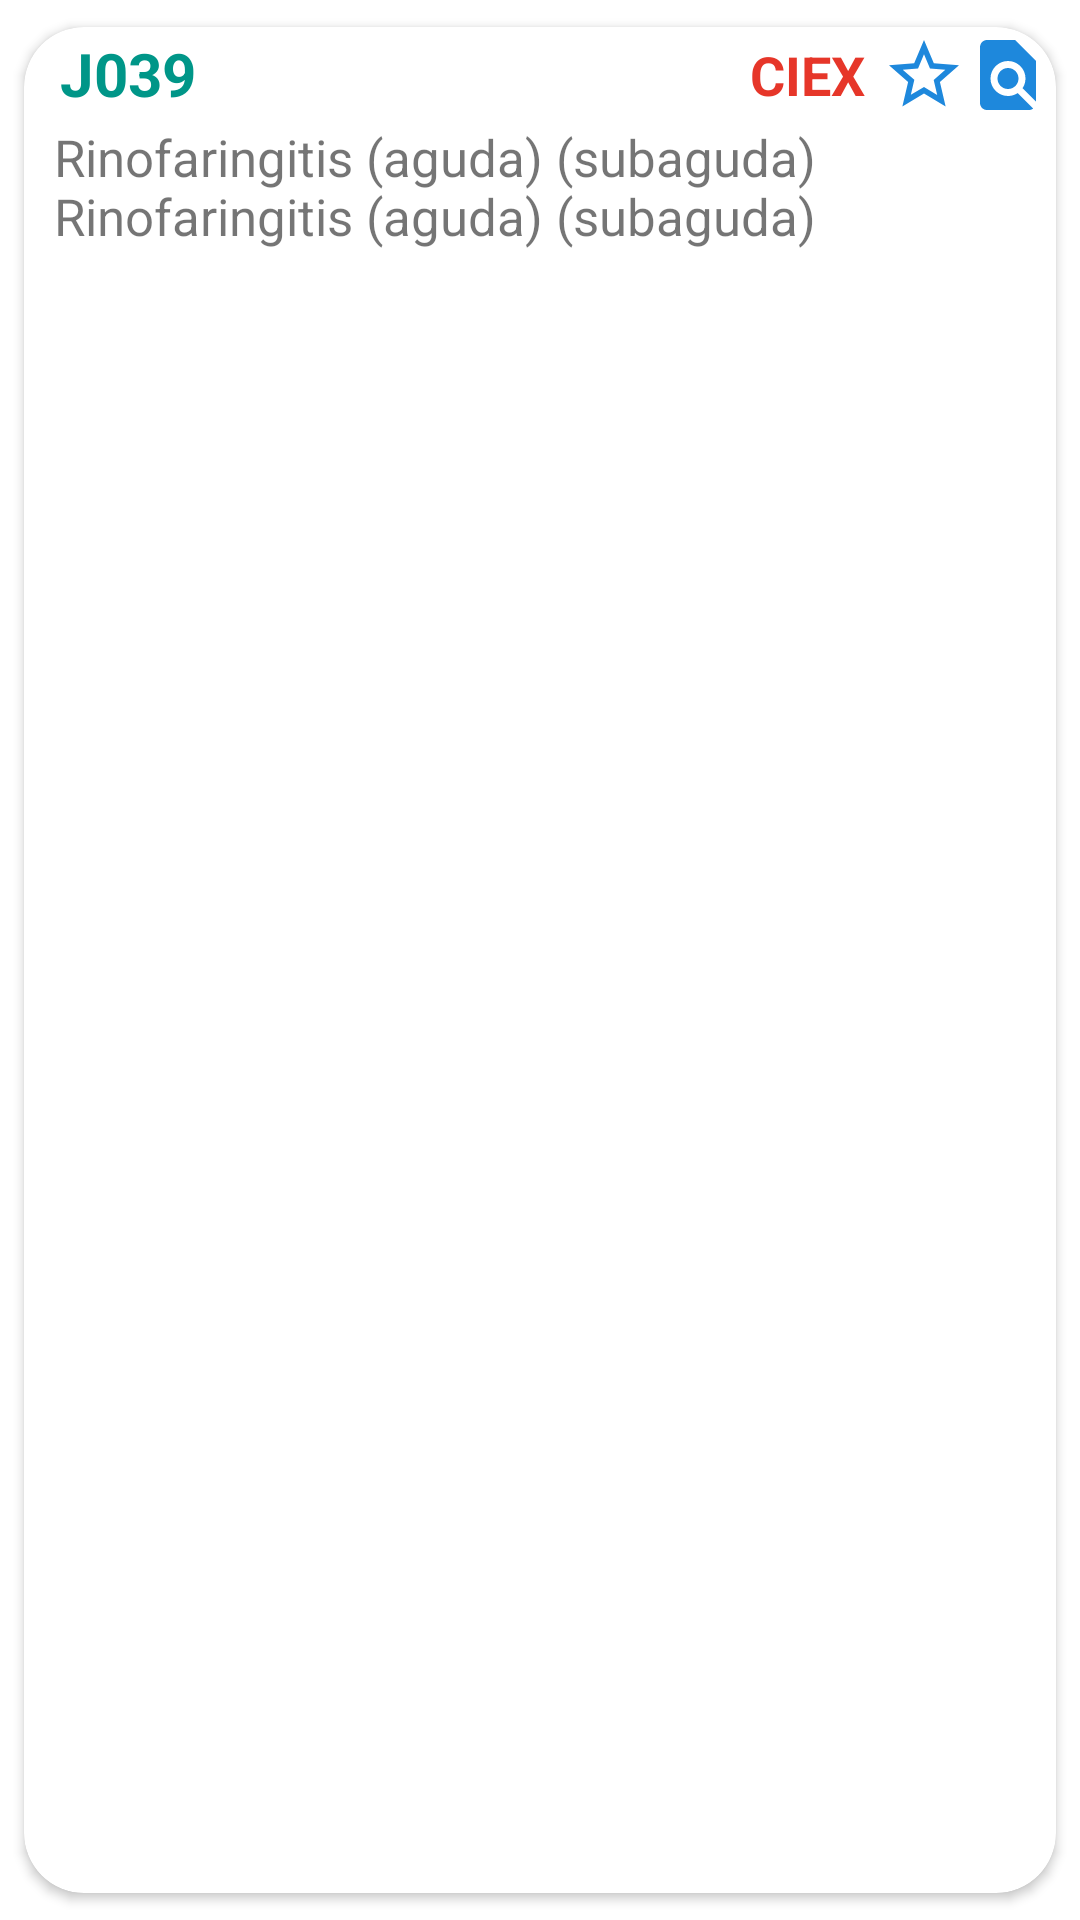

Icons on this 1080x1920 Android screen, each with its box as (left=x1, top=y1, right=x2, bottom=y2):
find in page: (left=980, top=37, right=1050, bottom=110)
star border: (left=889, top=40, right=959, bottom=107)
